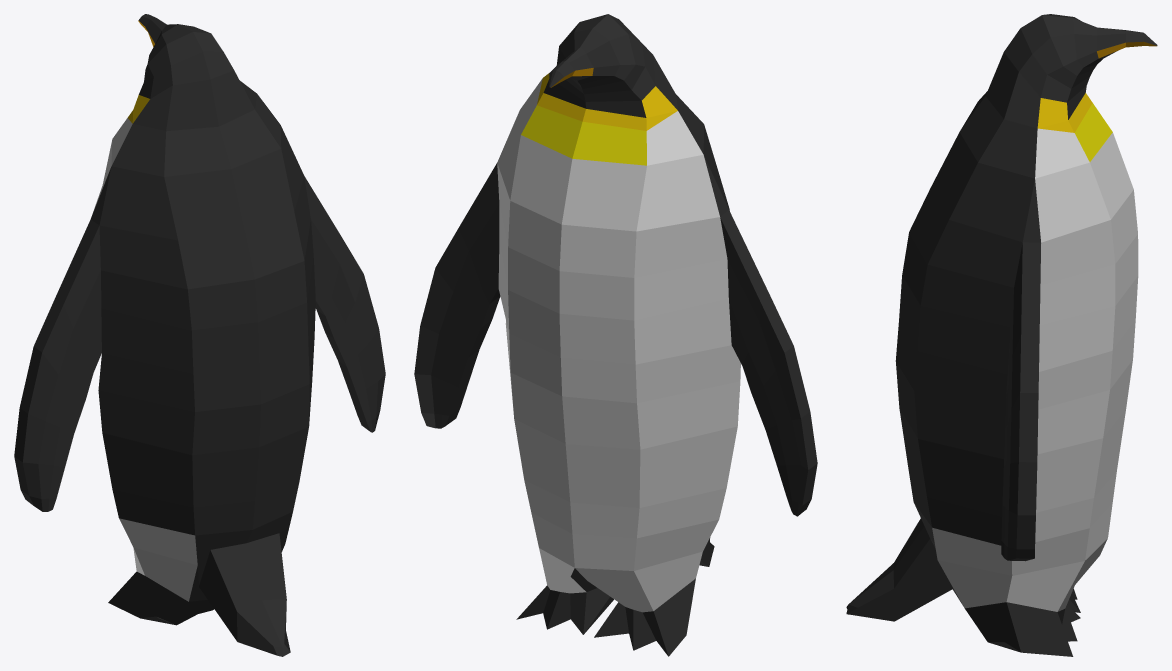
Rendered from penguin.fbx.
The picture shows the model from 3 angles, left to right: view 1: azimuth 30°, elevation 25°; view 2: azimuth 150°, elevation 25°; view 3: azimuth 270°, elevation 25°; orthographic projection. The views are drawn at different scales.
Visible parts, largest first — view 1: Plane; view 2: Plane; view 3: Plane.
Part boxes in pixels (bbox=[...]): Plane: bbox=[14, 14, 385, 656]; Plane: bbox=[414, 14, 817, 656]; Plane: bbox=[846, 14, 1157, 656].
Bounding box in the file's own units: 832 × 1238 × 576.
